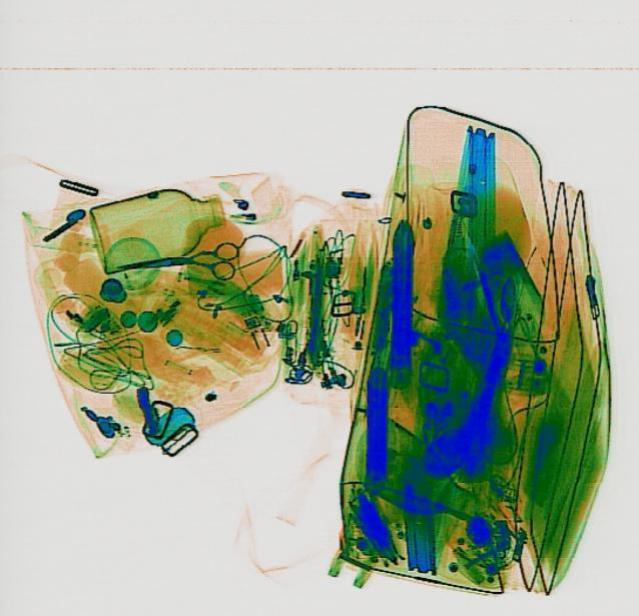Scissors: (106, 239, 241, 287)
